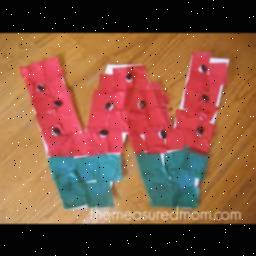w: (14, 45, 232, 211)
